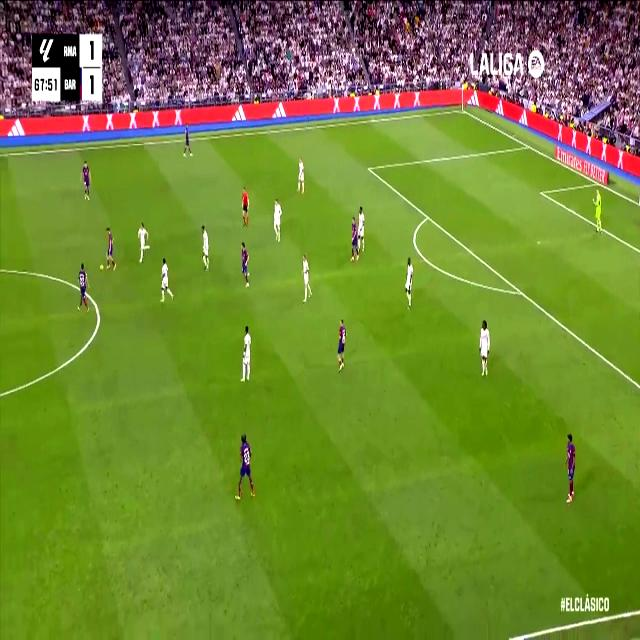bigarea_top_inner: (366, 161, 372, 175)
bigarea_top_outter: (524, 138, 532, 152)
bottom_arc_area_intersection: (516, 283, 526, 301)
corner: (458, 104, 466, 114)
smallarea_top_inner: (539, 187, 544, 198)
top_arc_area_intersection: (424, 208, 432, 224)
